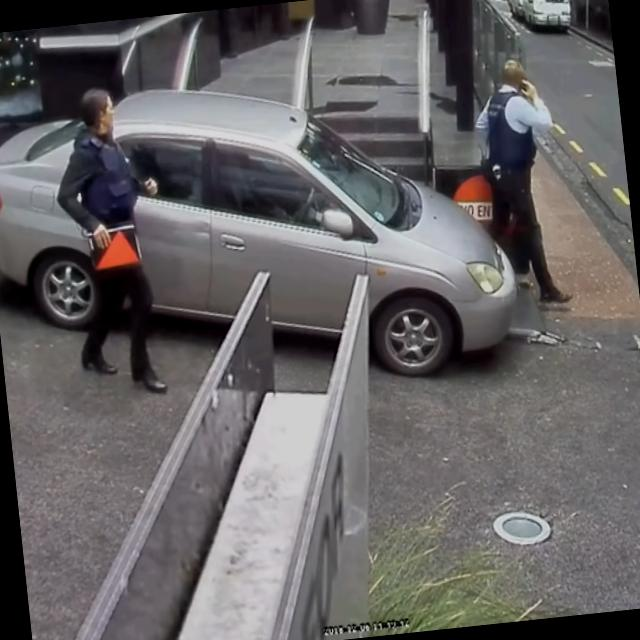person: (44, 81, 180, 402), (466, 55, 572, 309)
